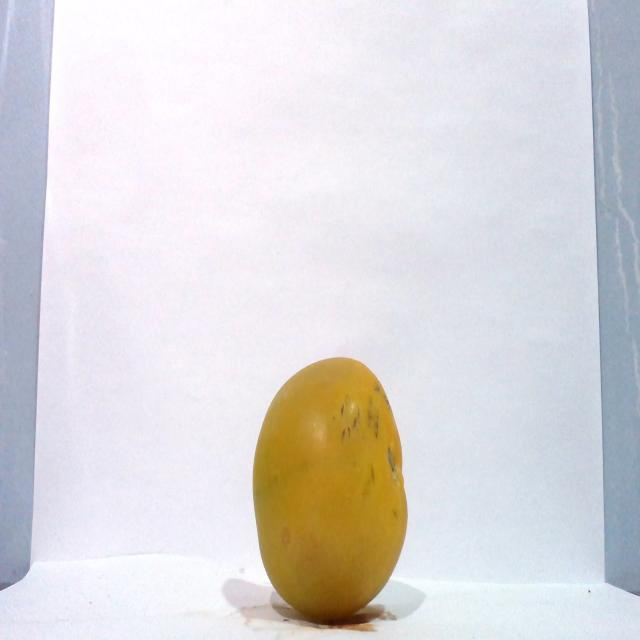Red: (251, 355, 408, 623)
